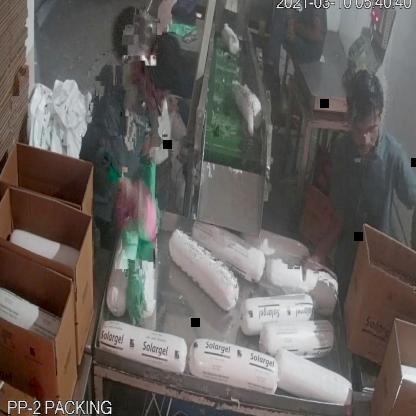no_glove: (296, 191, 357, 289), (402, 174, 416, 310), (290, 12, 330, 55)
